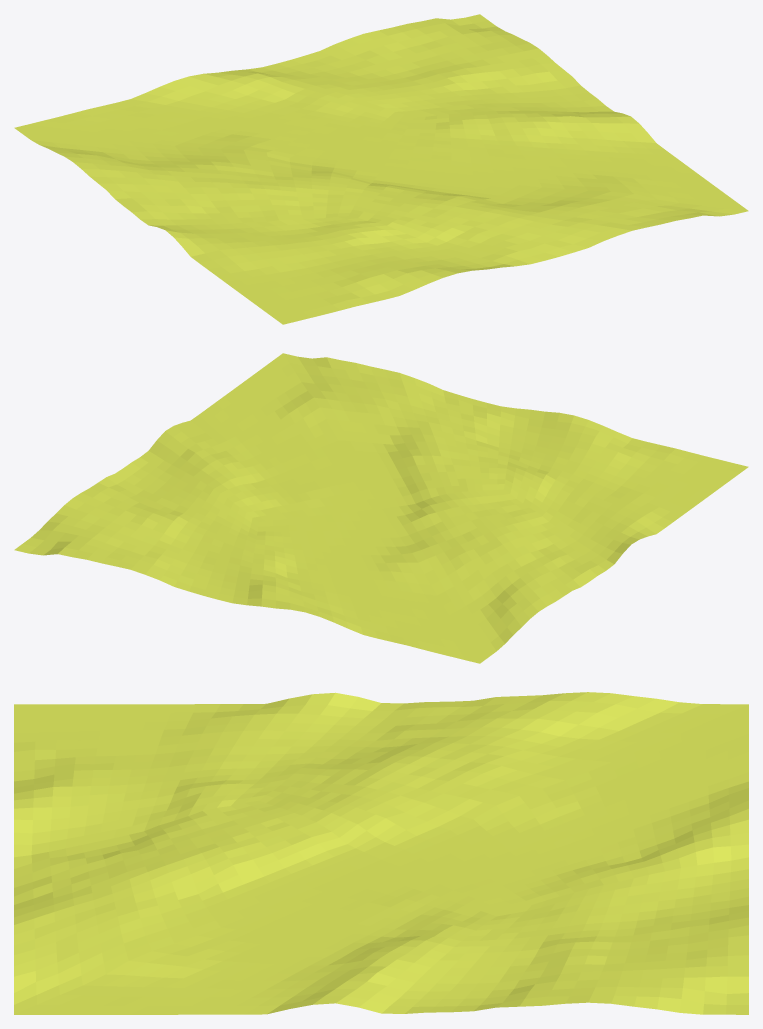
Rendered from floor_tile.glb.
The picture shows the model from 3 angles, top to bottom: view 1: azimuth 30°, elevation 25°; view 2: azimuth 150°, elevation 25°; view 3: azimuth 270°, elevation 25°; orthographic projection. The views are drawn at different scales.
Parts seen in each view (by area): view 1: Plane; view 2: Plane; view 3: Plane.
Part boxes in pixels (x1,y1,x2,y2): Plane: (14,14,748,324); Plane: (14,353,748,663); Plane: (14,692,748,1014).
Size of the model in its own units: 50 by 0.913 by 50.
